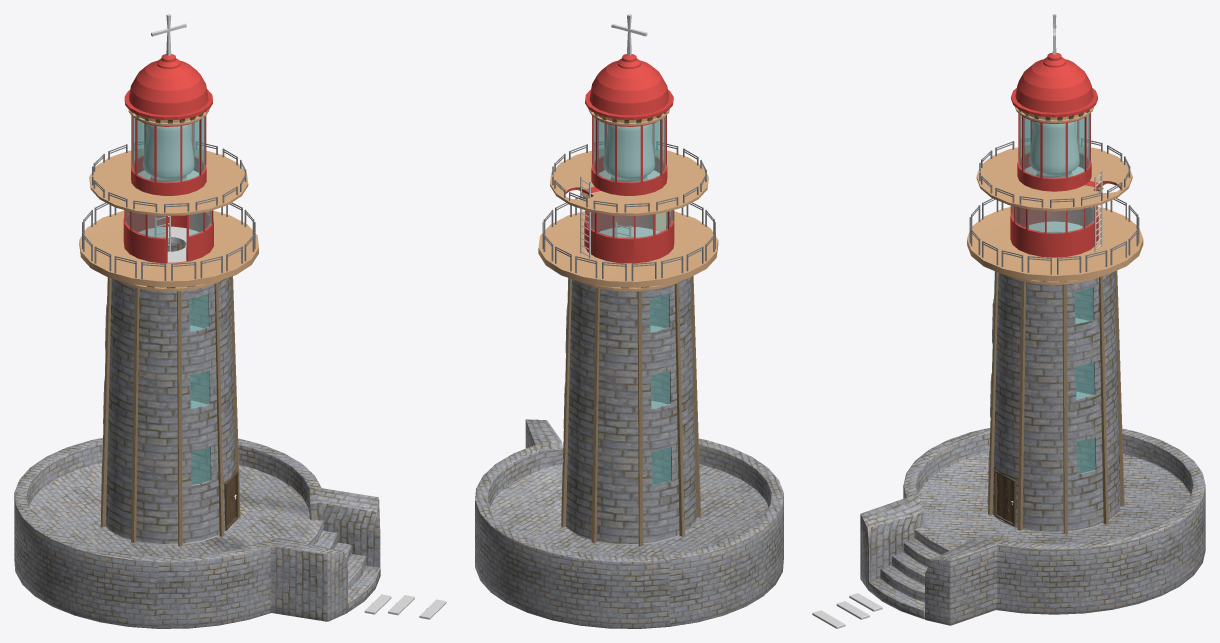
File: LightHouse.fbx
The picture shows the model from 3 angles, left to right: view 1: azimuth 30°, elevation 25°; view 2: azimuth 150°, elevation 25°; view 3: azimuth 270°, elevation 25°; orthographic projection. The views are drawn at different scales.
Visible parts, largest first — view 1: Circle.001, Circle.016, Circle.017, Circle.019, Cube.060, Sphere.002, Cube.059, Circle.024, Cylinder.033, Cube.061, Cylinder.034, Cube.064 (+4 smaller); view 2: Circle.001, Circle.016, Circle.017, Circle.019, Cube.060, Sphere.002, Cube.059, Circle.024, Cube.061, Cylinder.033, Cylinder.034, Circle.027 (+3 smaller); view 3: Circle.001, Circle.016, Circle.017, Circle.019, Cube.060, Sphere.002, Cube.059, Circle.024, Cylinder.033, Cube.061, Cylinder.034, Cube.064 (+4 smaller).
Boxes of the visible parts, box(x1,y1,x2,y2) form: Circle.001: box(14, 438, 380, 628); Circle.016: box(100, 242, 235, 543); Circle.017: box(79, 210, 258, 287); Circle.019: box(89, 115, 248, 215); Cube.060: box(100, 243, 240, 546); Sphere.002: box(124, 60, 212, 120); Cube.059: box(132, 116, 205, 182); Circle.024: box(143, 124, 194, 182); Cylinder.033: box(82, 202, 255, 280); Cube.061: box(125, 210, 211, 238); Cylinder.034: box(92, 141, 246, 212); Cube.064: box(364, 594, 446, 619); Circle.001: box(475, 419, 783, 628); Circle.016: box(561, 277, 696, 543); Circle.017: box(538, 210, 718, 287); Circle.019: box(550, 115, 708, 215); Cube.060: box(561, 276, 700, 546); Sphere.002: box(585, 60, 673, 120); Cube.059: box(593, 116, 665, 182); Circle.024: box(603, 124, 655, 182); Cube.061: box(587, 210, 673, 238); Cylinder.033: box(542, 196, 715, 280); Cylinder.034: box(552, 141, 706, 212); Circle.027: box(565, 326, 670, 408); Circle.001: box(860, 428, 1205, 625); Circle.016: box(987, 271, 1120, 531); Circle.017: box(967, 205, 1143, 281); Circle.019: box(976, 113, 1132, 211); Cube.060: box(988, 270, 1124, 533); Sphere.002: box(1011, 59, 1097, 117); Cube.059: box(1019, 114, 1090, 178); Circle.024: box(1029, 121, 1079, 178); Cylinder.033: box(969, 192, 1139, 274); Cube.061: box(1011, 206, 1096, 233); Cylinder.034: box(979, 138, 1130, 207); Cube.064: box(812, 593, 882, 628).
Bounding box in the file's own units: 902 × 1575 × 1047.
